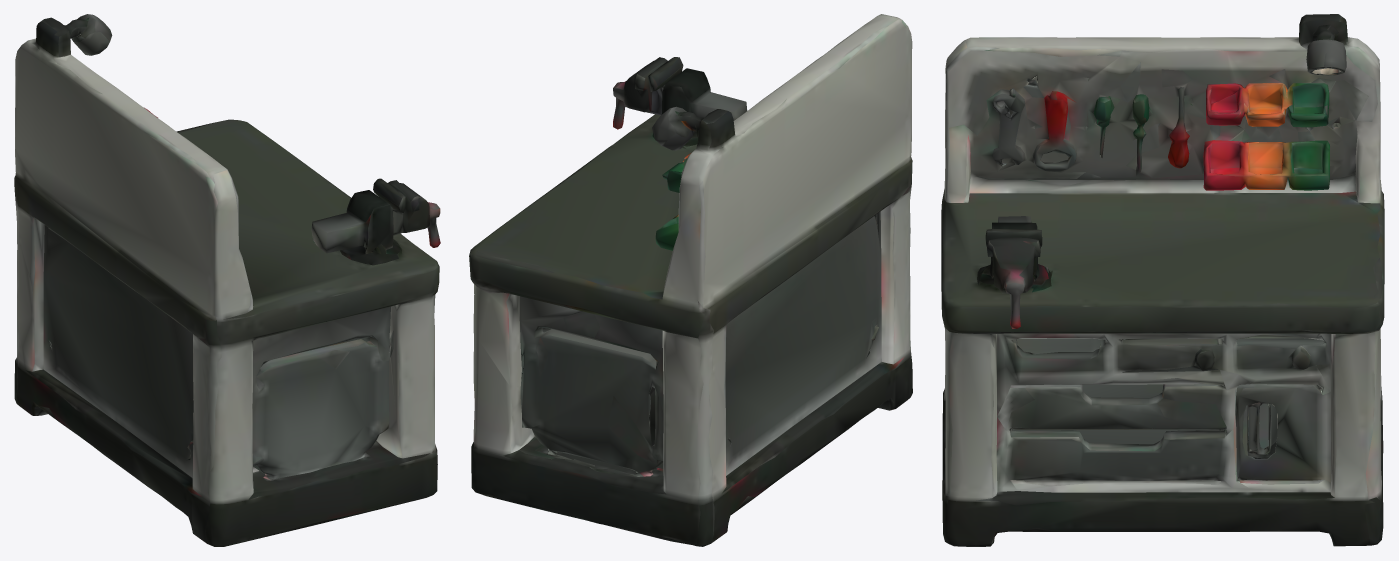
File: workbench.glb
The picture shows the model from 3 angles, left to right: view 1: azimuth 30°, elevation 25°; view 2: azimuth 150°, elevation 25°; view 3: azimuth 270°, elevation 25°; orthographic projection. The views are drawn at different scales.
Visible parts, largest first — view 1: geometry_0; view 2: geometry_0; view 3: geometry_0.
Boxes of the visible parts, x1=… form: geometry_0: x1=14, y1=14, x2=440, y2=546; geometry_0: x1=469, y1=14, x2=912, y2=546; geometry_0: x1=941, y1=14, x2=1384, y2=546.
Size of the model in its own units: 0.6924 by 1 by 0.9553.
Materials: 1 (1 with a texture image).
